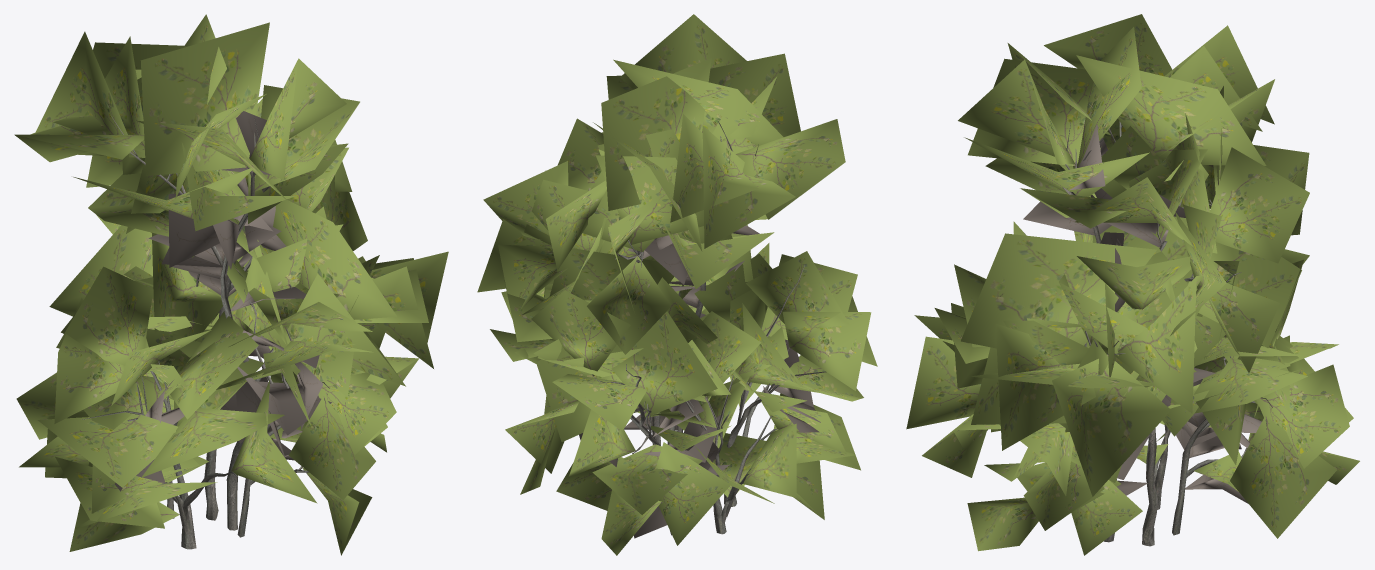
Rendered from sm_BushGroup_01_02.fbx.
The picture shows the model from 3 angles, left to right: view 1: azimuth 30°, elevation 25°; view 2: azimuth 150°, elevation 25°; view 3: azimuth 270°, elevation 25°; orthographic projection. The views are drawn at different scales.
Visible parts, largest first — view 1: sm_BushGroup_01_02_LOD0; view 2: sm_BushGroup_01_02_LOD0; view 3: sm_BushGroup_01_02_LOD0.
Boxes of the visible parts, bbox=[...] form: sm_BushGroup_01_02_LOD0: bbox=[14, 14, 448, 555]; sm_BushGroup_01_02_LOD0: bbox=[477, 14, 877, 555]; sm_BushGroup_01_02_LOD0: bbox=[906, 14, 1359, 555].
Size of the model in its own units: 239 by 242 by 294.
